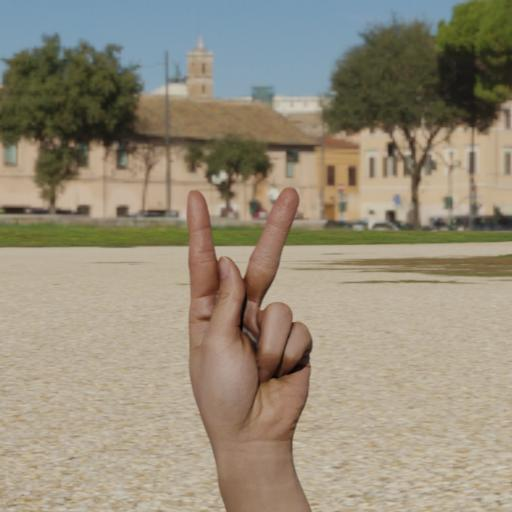K: (166, 173, 330, 512)
